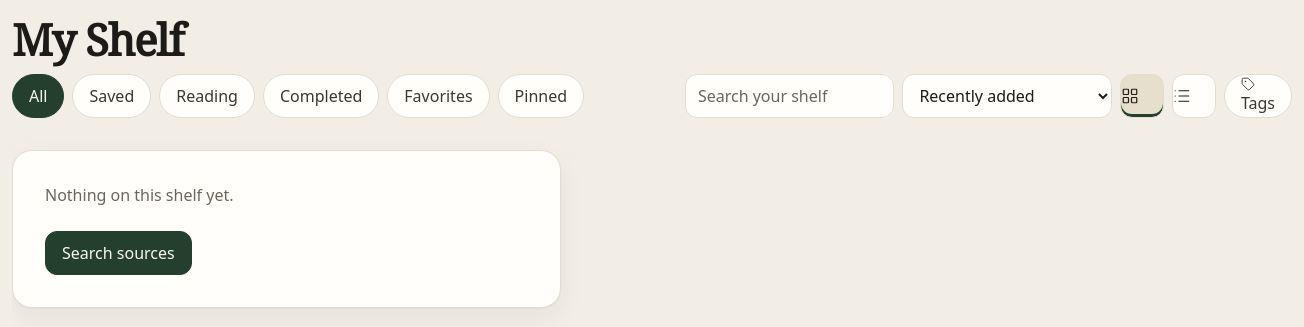
Test: My Shelf › distinguishes no search matches from an empty shelf in en
Expected: the text "Nothing on this shelf yet." is shown, x1=45 y1=184 x2=234 y2=206
Type "missing" into the search field at point(790, 96), box x1=685 y1=74 x2=894 y2=118
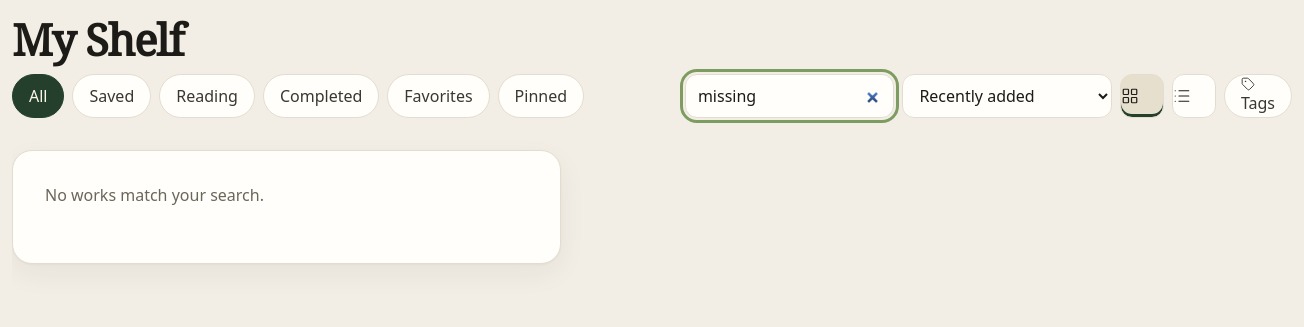
Expected: the text "No works match your search." is shown, x1=45 y1=184 x2=264 y2=206
Expected: the text "Nothing on this shelf yet." is gone
